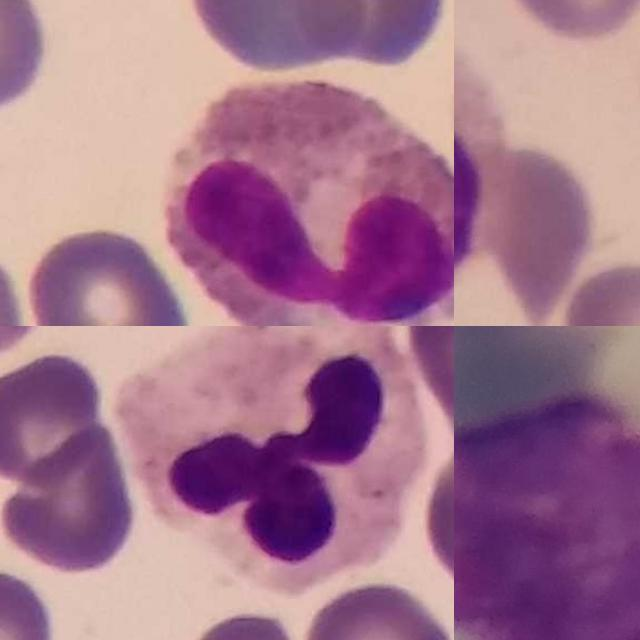Basophil: (454, 394, 640, 640)
Eosinophil: (167, 75, 454, 326)
Neutrophil: (120, 326, 422, 594), (454, 14, 502, 326)
